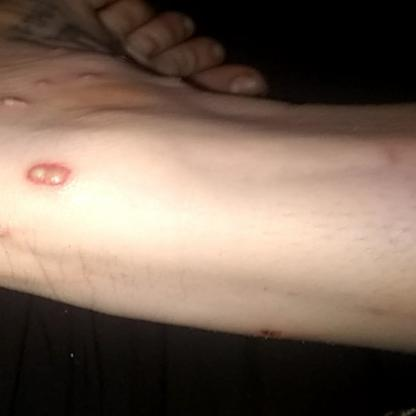Fire ant: (20, 151, 74, 193), (28, 69, 110, 91), (2, 93, 32, 116)
